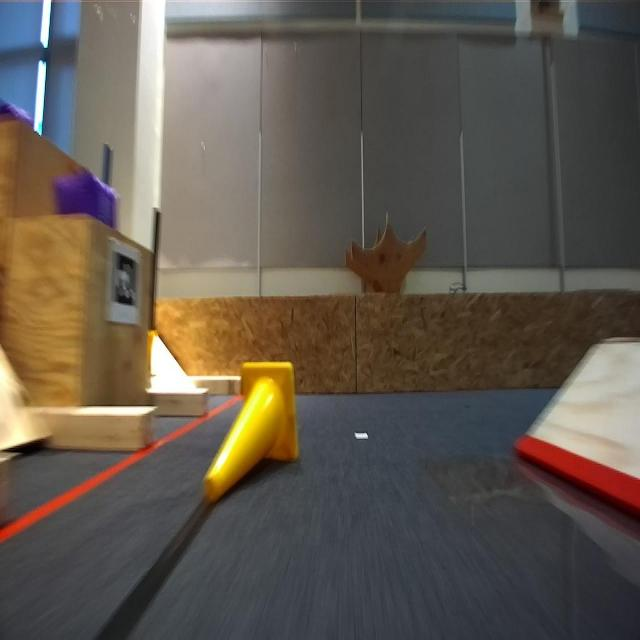frc_cone: (202, 360, 294, 513)
frc_cube: (52, 163, 119, 220), (0, 95, 32, 127)
